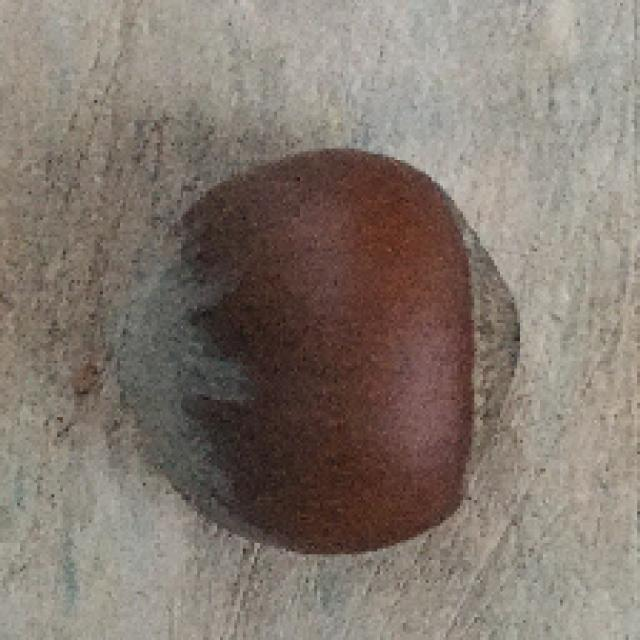damagedHazelnut: (112, 150, 537, 547)
